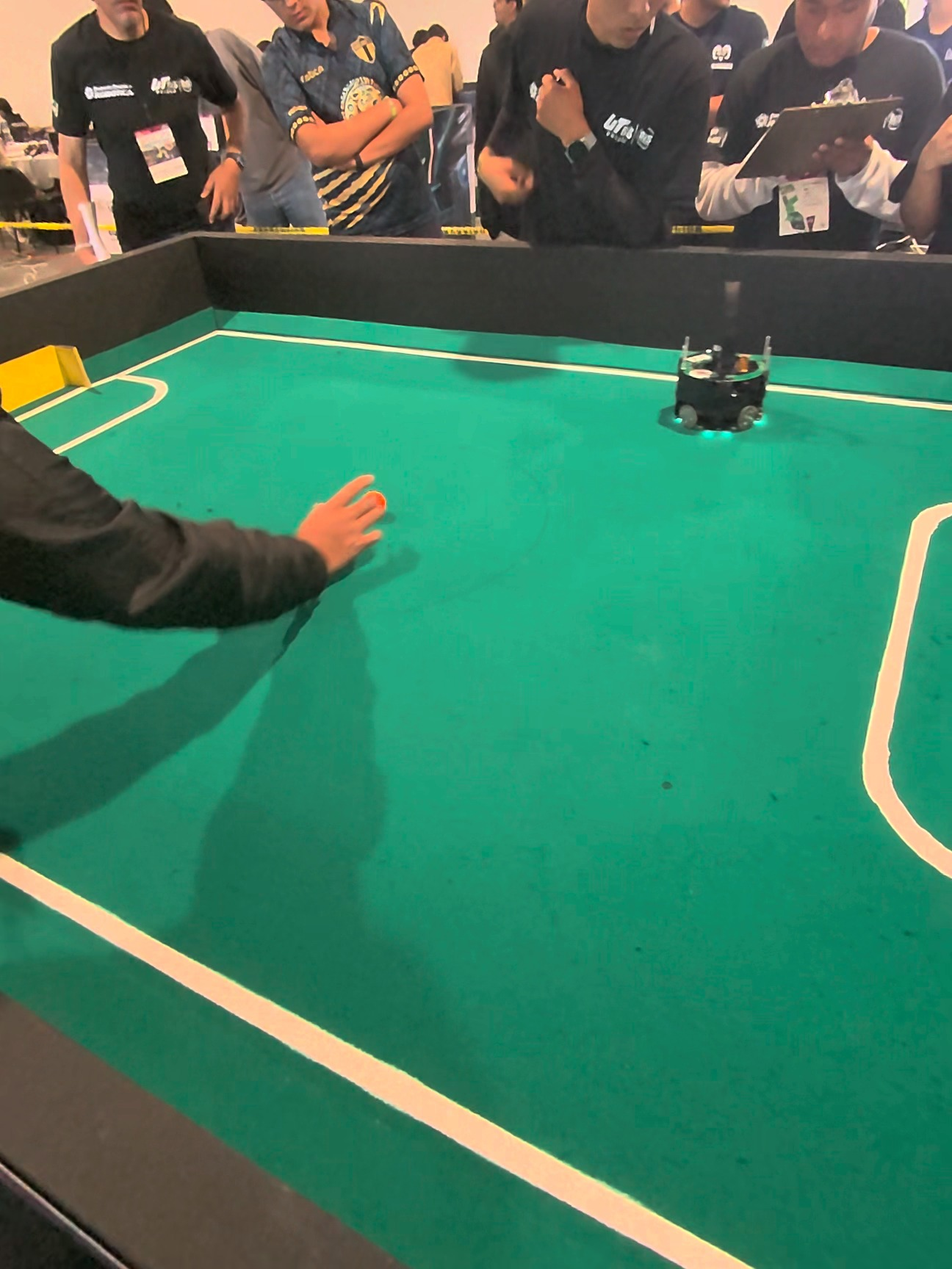Robot: (672, 284, 780, 467)
